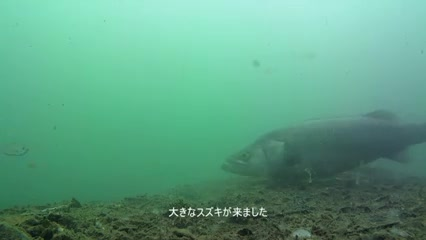smallfish: (3, 141, 29, 158)
suzuki: (220, 109, 424, 181)
